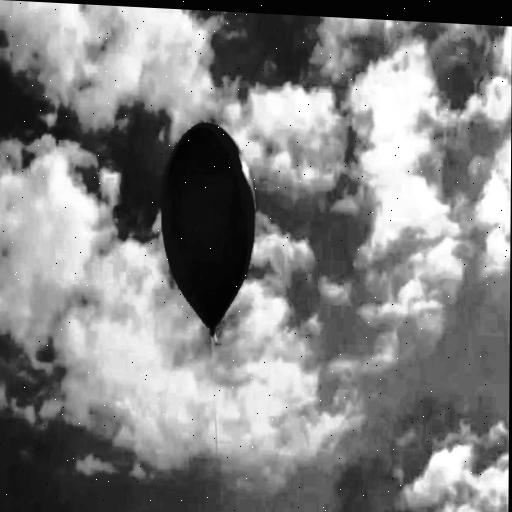balloon: (158, 116, 260, 346)
